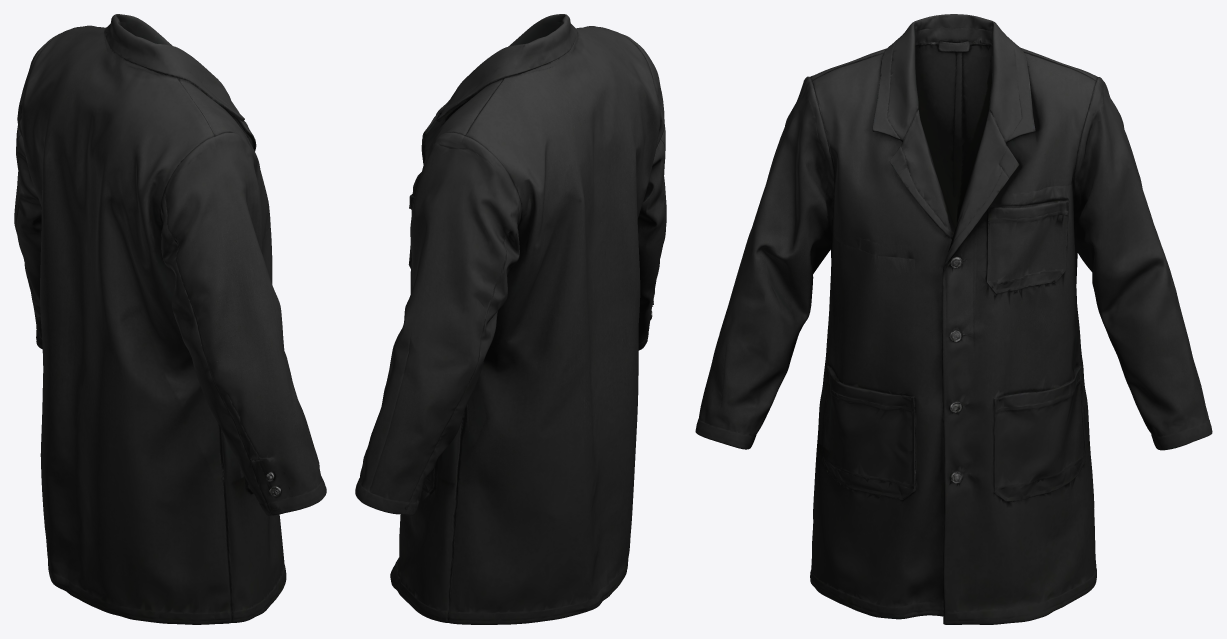
The model's file is BATA.glb.
3 views of the same model, side by side, from view 1: azimuth 30°, elevation 25°; view 2: azimuth 150°, elevation 25°; view 3: azimuth 270°, elevation 25° (orthographic).
Parts seen in each view (by area): view 1: tripo_node_52cec2d6-ef7c-4da7-b686-ac47dde28d83; view 2: tripo_node_52cec2d6-ef7c-4da7-b686-ac47dde28d83; view 3: tripo_node_52cec2d6-ef7c-4da7-b686-ac47dde28d83.
Boxes of the visible parts, <box> form: tripo_node_52cec2d6-ef7c-4da7-b686-ac47dde28d83: <box>14,14,326,624</box>; tripo_node_52cec2d6-ef7c-4da7-b686-ac47dde28d83: <box>355,14,666,624</box>; tripo_node_52cec2d6-ef7c-4da7-b686-ac47dde28d83: <box>695,14,1212,624</box>.
Bounding box in the file's own units: 0.3593 × 0.9785 × 0.8364.
Materials: 1 (1 with a texture image).
